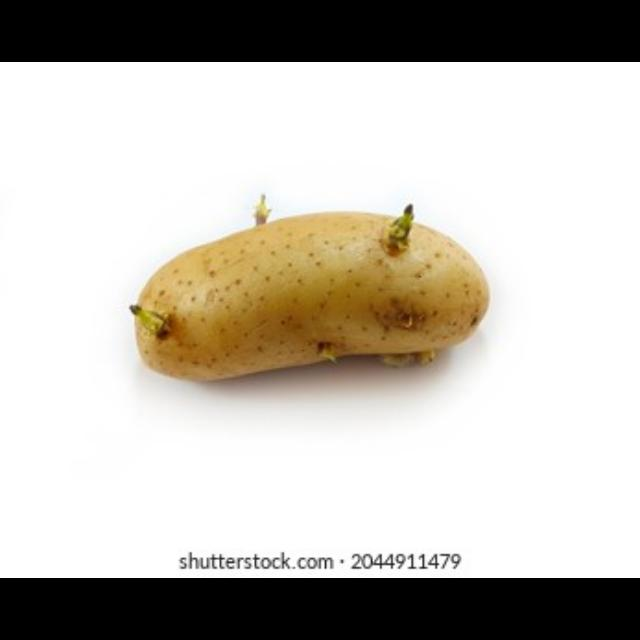Sprouted potato: (128, 179, 494, 389)
